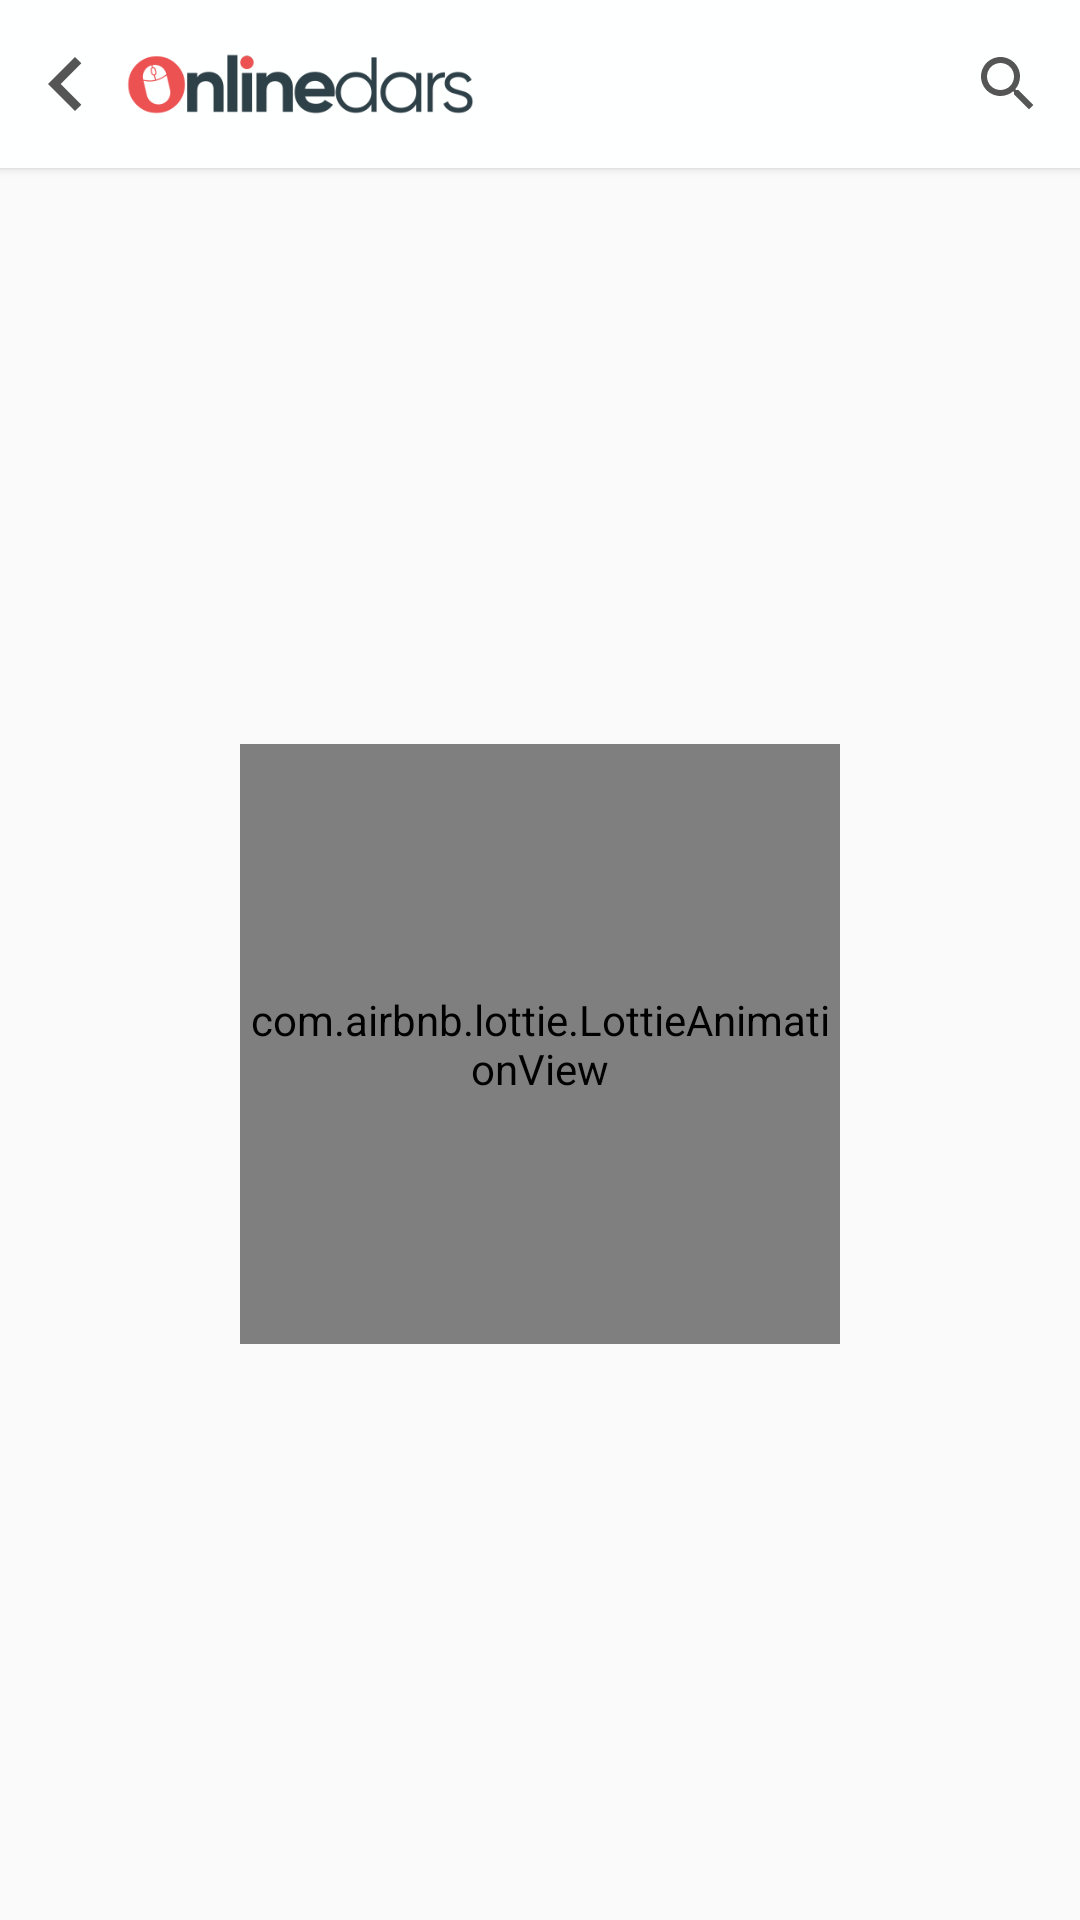

Point at icon controls on the screen. Image size 1080w x 1920h, points as [x,y].
chevron left toolbar: [64,84]
search: [1007,83]
